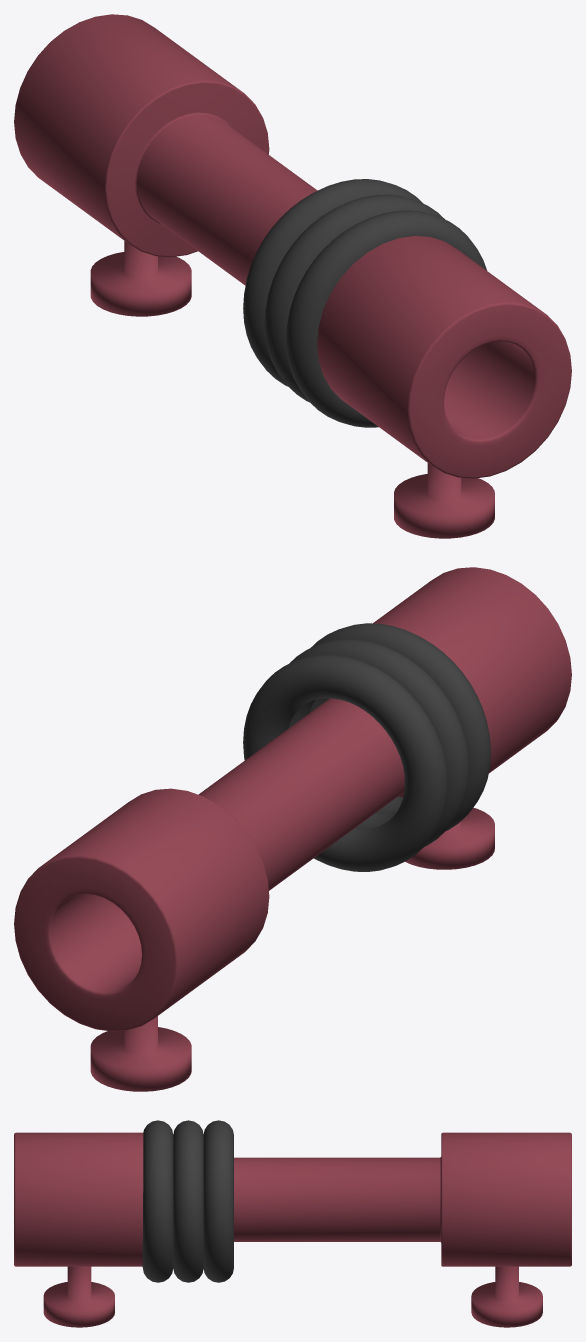
The picture shows the model from 3 angles, top to bottom: view 1: azimuth 30°, elevation 25°; view 2: azimuth 150°, elevation 25°; view 3: azimuth 270°, elevation 25°; orthographic projection. The views are drawn at different scales.
Visible parts, largest first — view 1: Cylinder, BézierCircle; view 2: Cylinder, BézierCircle; view 3: Cylinder, BézierCircle.
Part boxes in pixels (x1,y1,x2,y2): Cylinder: [14, 14, 571, 538]; BézierCircle: [243, 179, 487, 427]; Cylinder: [14, 567, 571, 1091]; BézierCircle: [243, 623, 490, 871]; Cylinder: [14, 1132, 571, 1327]; BézierCircle: [142, 1120, 233, 1282].
Bounding box in the file's own units: 243 × 304 × 833.
